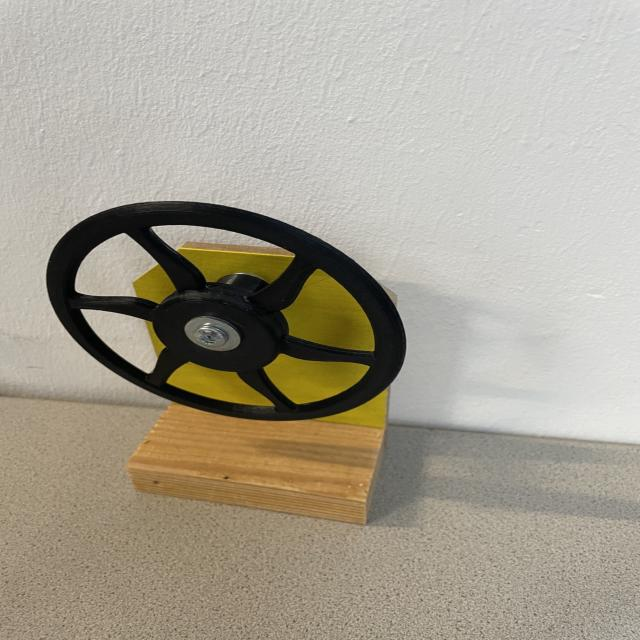Wheel Handle Valve Threaded: (36, 194, 406, 427)
